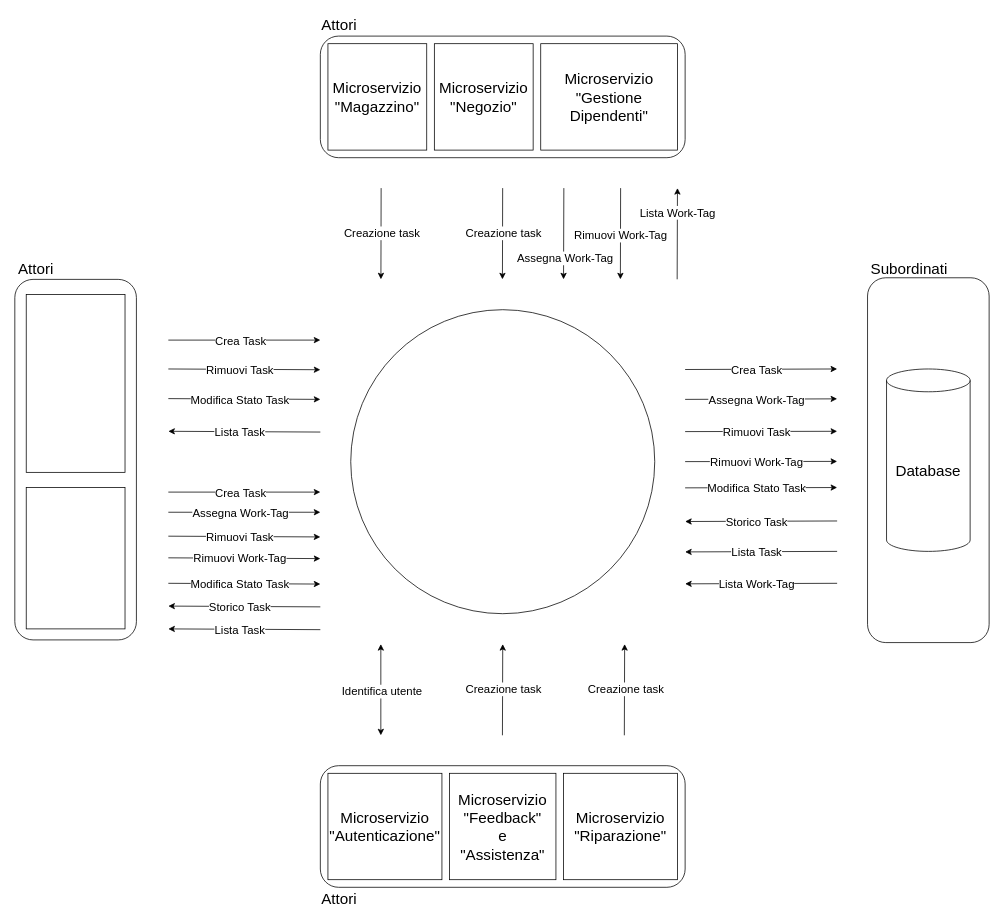
Some shapes in this 1002 by 923 pixel diagram are drawn without their labels. The centre of each missing label's shape, as x and y in pixels:
Dipendente: pixel 75 383
Manager: pixel 75 558
Microservizio "Task": pixel 502 461
